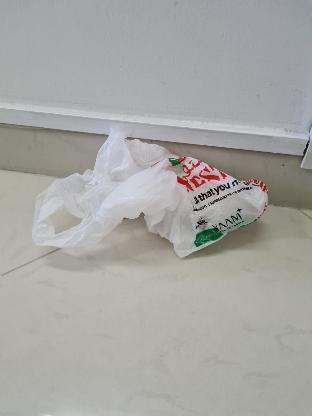Plastic Bag: (30, 128, 268, 262)
